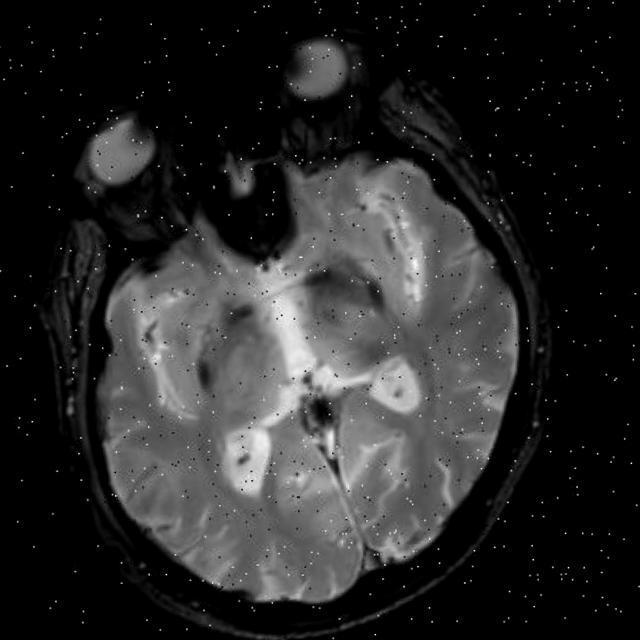LMCI: (302, 217, 414, 344), (171, 288, 276, 411)
